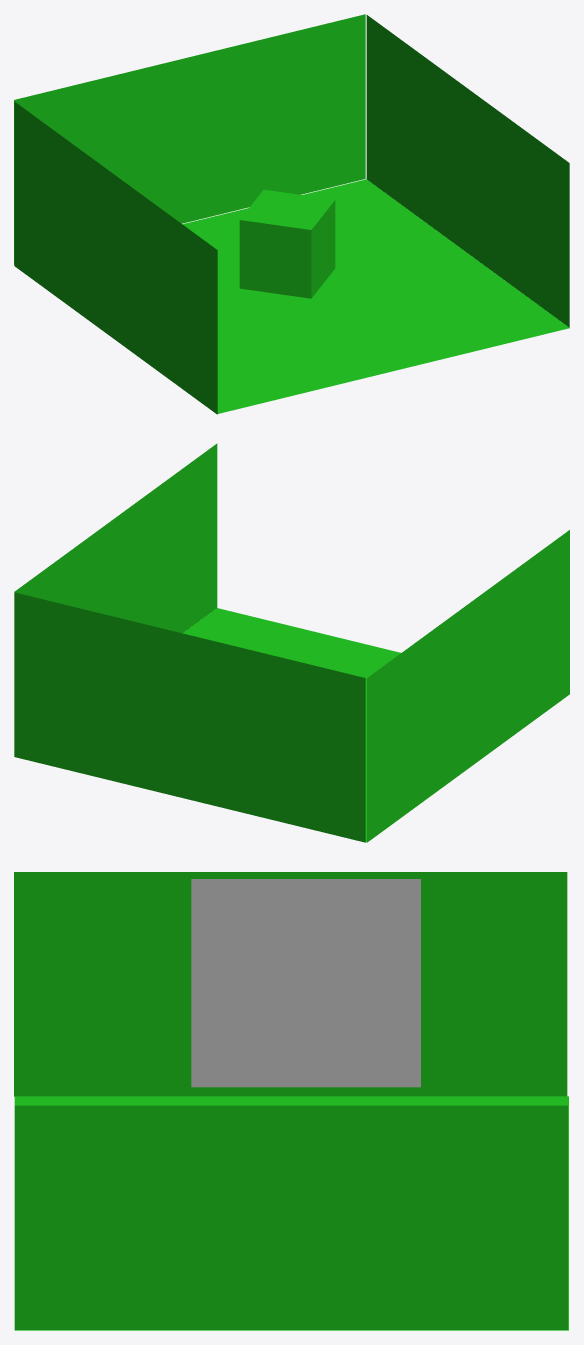
File: rotsimplescene.obj
3 views of the same model, one above another, from view 1: azimuth 30°, elevation 25°; view 2: azimuth 150°, elevation 25°; view 3: azimuth 270°, elevation 25° (orthographic). The views are drawn at different scales.
Parts seen in each view (by area): view 1: Plane.005_Plane.006, Plane.003, Cube_Cube.002; view 2: Plane.005_Plane.006, Plane.003; view 3: Plane.005_Plane.006, Plane, Plane.003.
Part boxes in pixels (box(x1,y1,x2,y2)): Plane.005_Plane.006: box(14, 14, 569, 414); Plane.003: box(182, 179, 569, 413); Cube_Cube.002: box(239, 189, 335, 298); Plane.005_Plane.006: box(14, 443, 569, 842); Plane.003: box(183, 608, 400, 842); Plane.005_Plane.006: box(14, 872, 567, 1329); Plane: box(191, 879, 420, 1087); Plane.003: box(14, 1096, 568, 1330).
Bounding box in the file's own units: 10.76 × 4.82 × 10.78.
